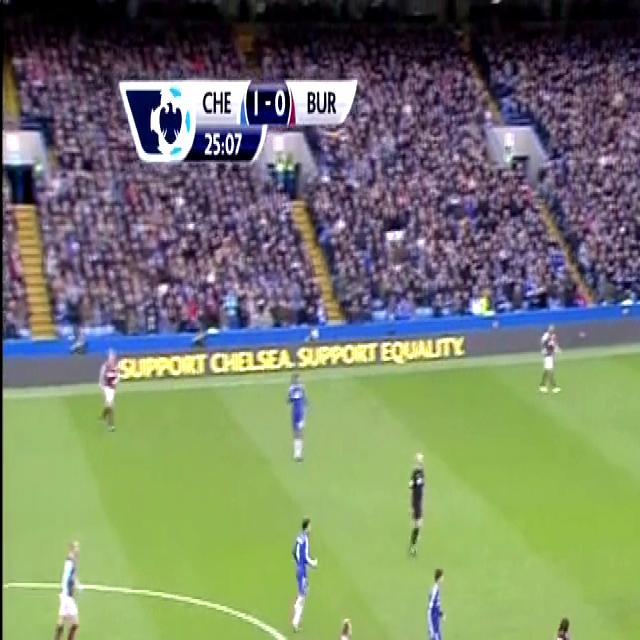referee: (401, 441, 431, 561)
soccer-player: (288, 506, 322, 638), (45, 528, 84, 640), (416, 558, 457, 640), (280, 360, 310, 465), (536, 308, 562, 398), (97, 345, 122, 436), (536, 608, 572, 640), (327, 610, 362, 640)
